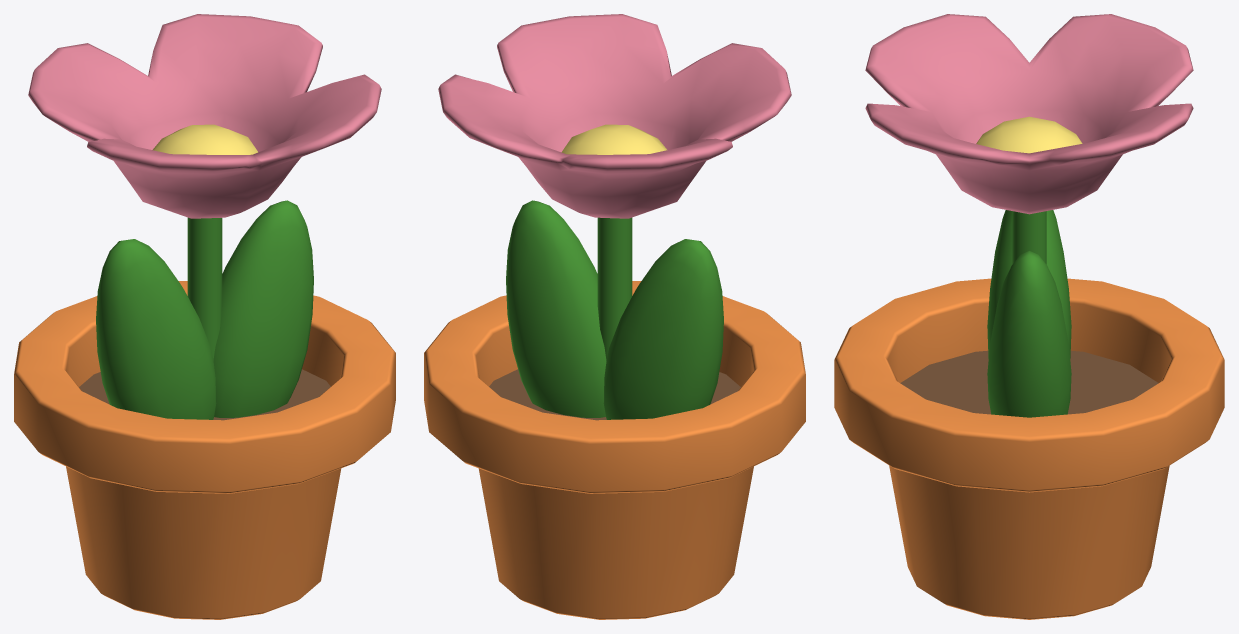
The model's file is Flower_3.glb.
The picture shows the model from 3 angles, left to right: view 1: azimuth 30°, elevation 25°; view 2: azimuth 150°, elevation 25°; view 3: azimuth 270°, elevation 25°; orthographic projection.
Parts seen in each view (by area): view 1: Flower_1; view 2: Flower_1; view 3: Flower_1.
Boxes of the visible parts, x1,y1,x2,y2 form: Flower_1: (14,14,395,619); Flower_1: (424,14,805,619); Flower_1: (834,14,1224,619).
Size of the model in its own units: 0.3199 by 0.4443 by 0.3199.
1 material, 1 textured.
